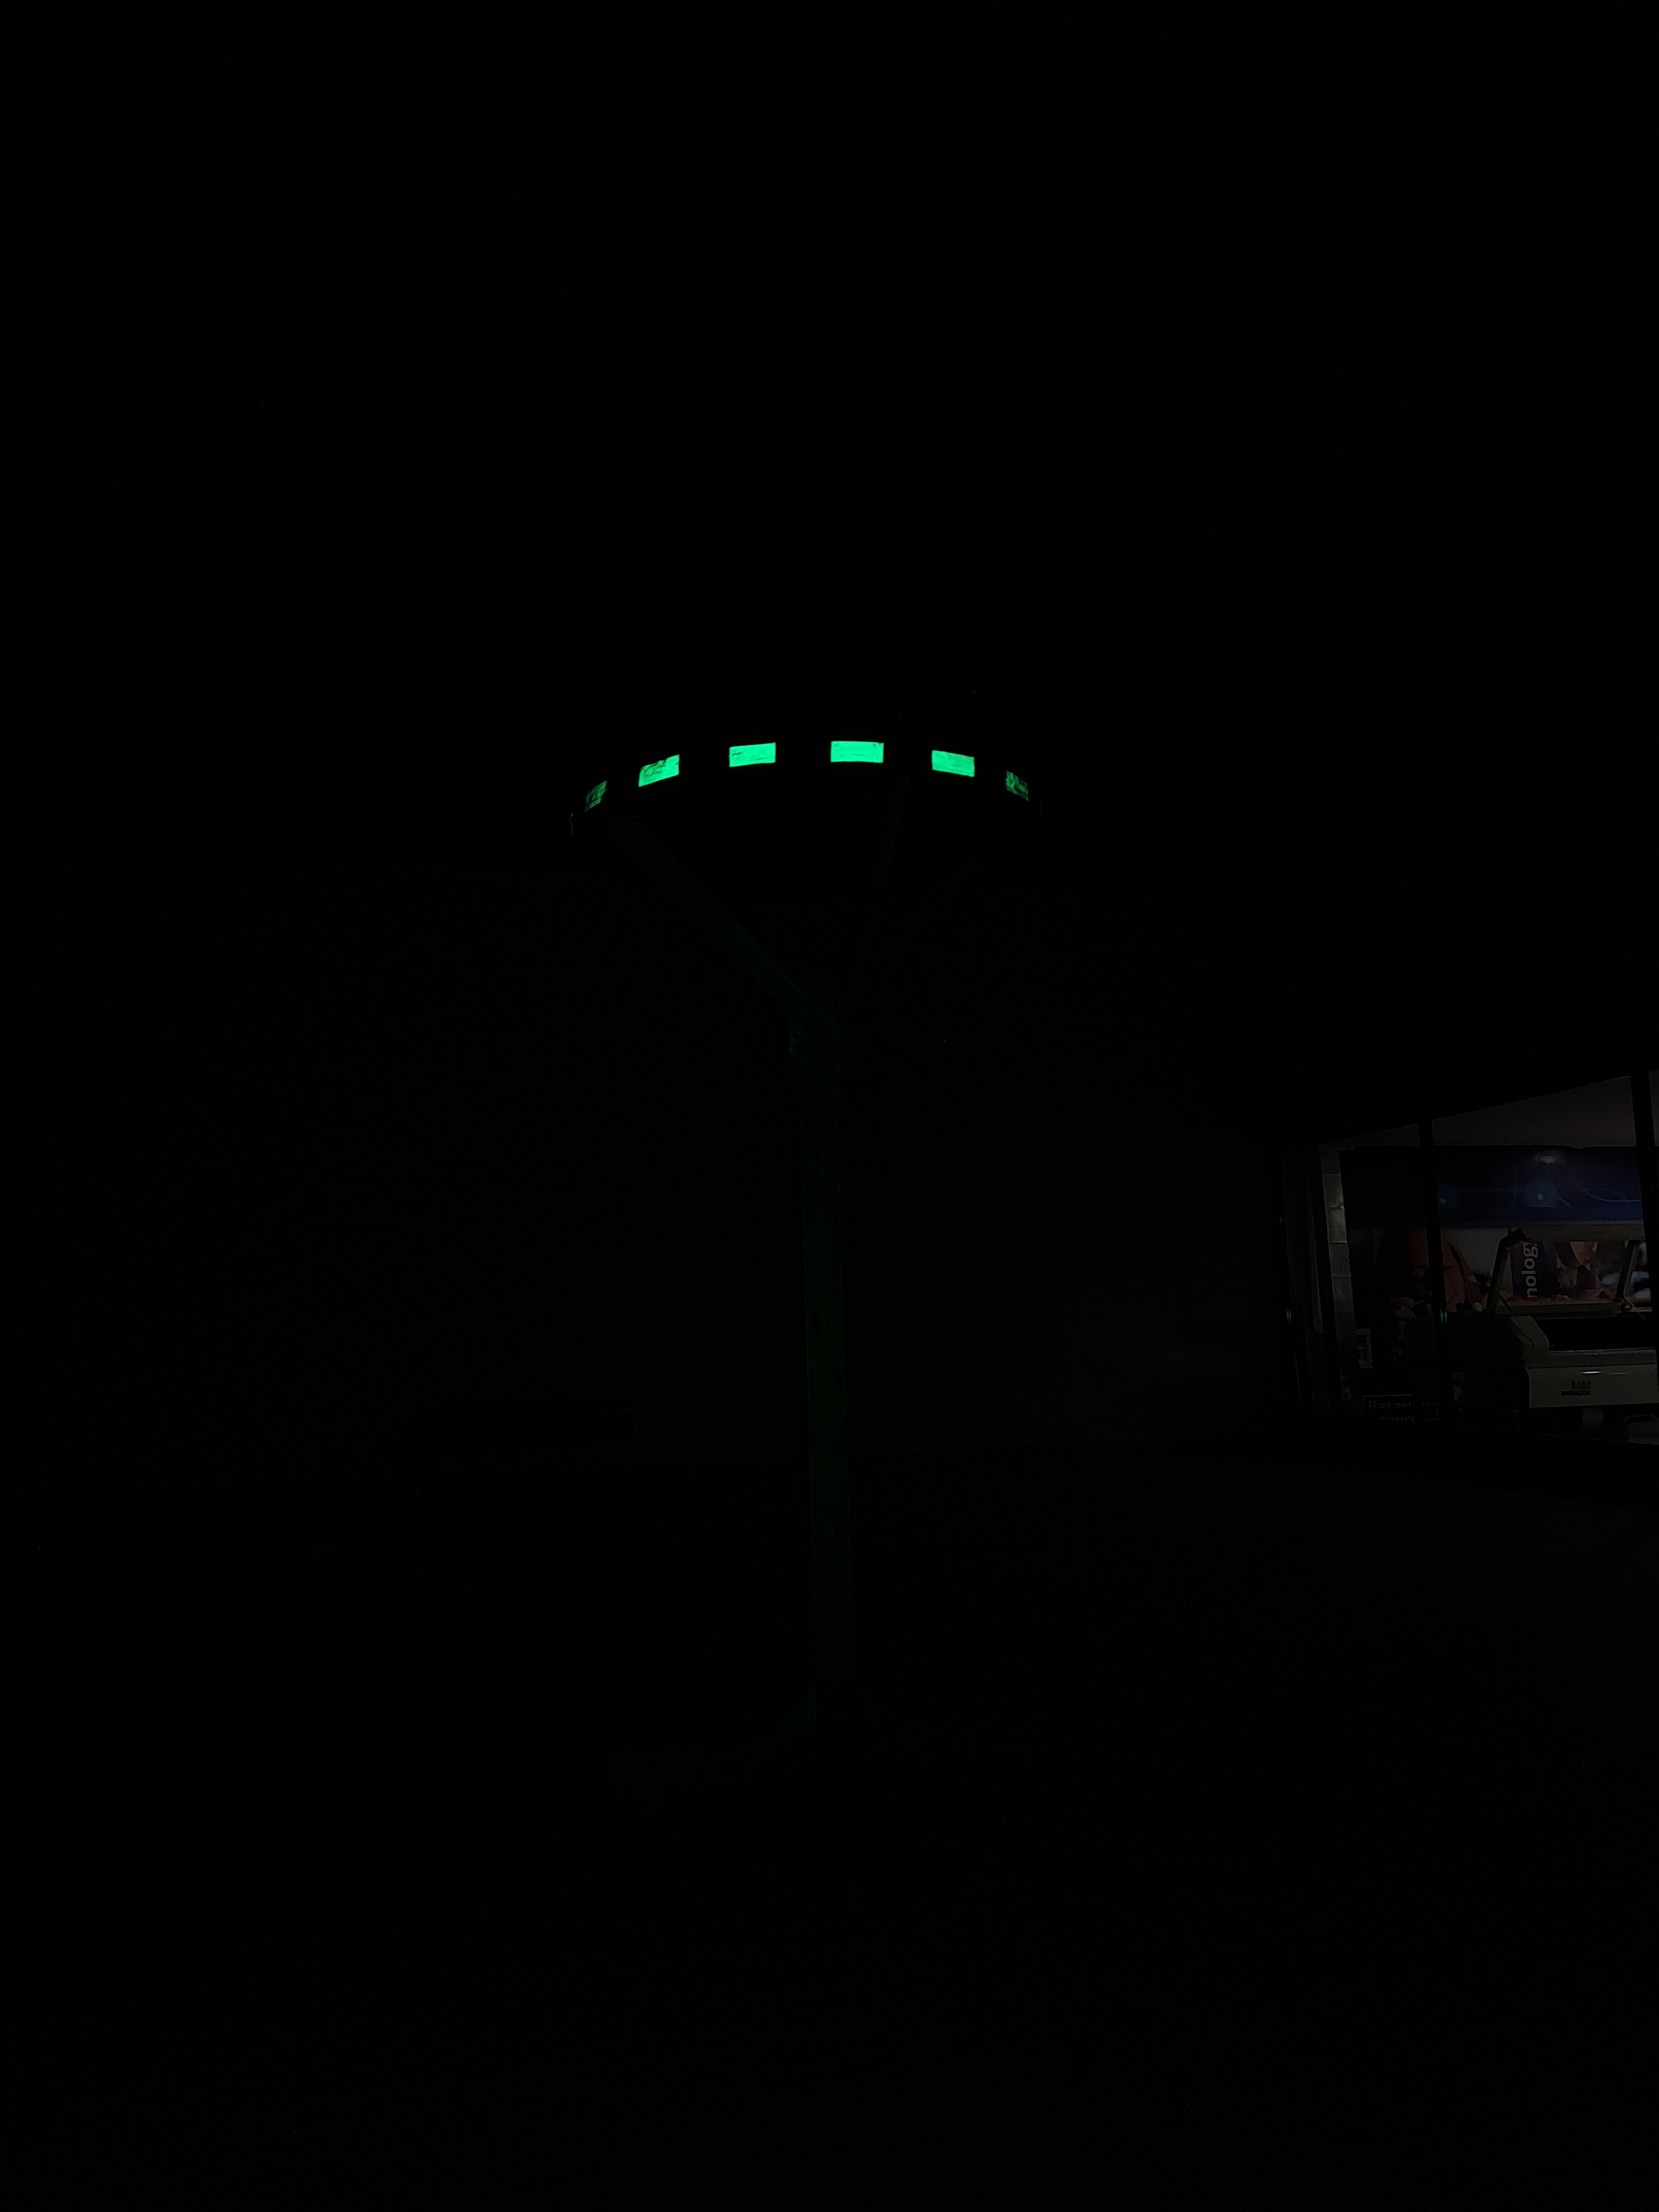hoop: (532, 714, 1066, 829)
